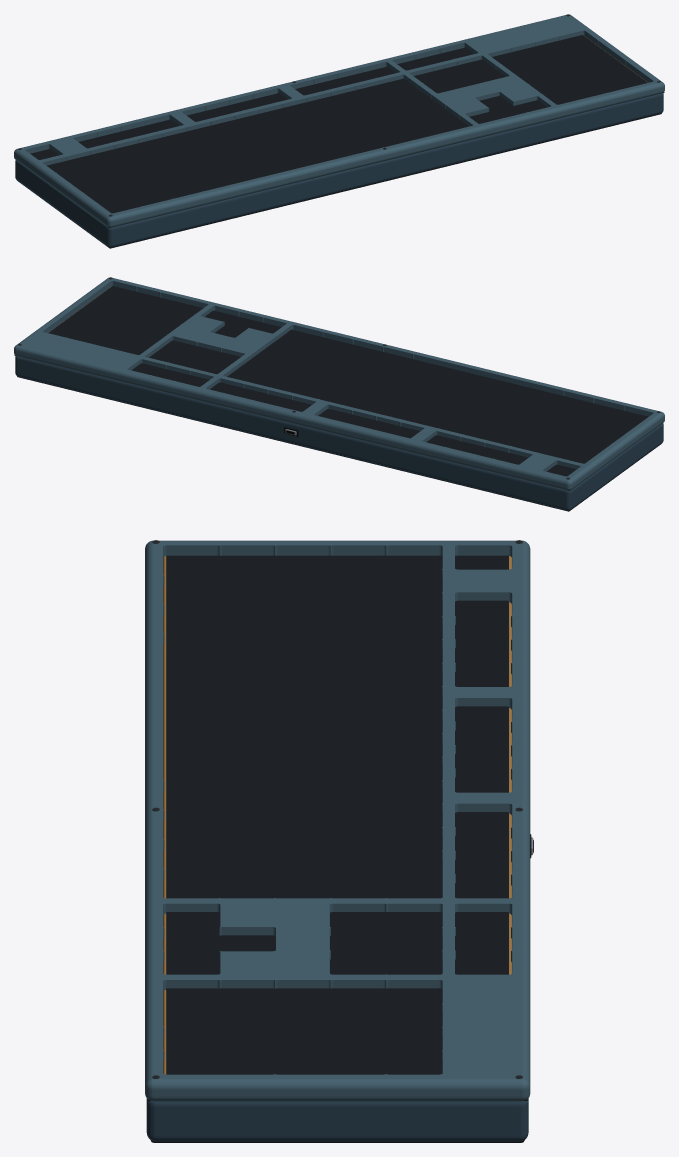
The model's file is ansi-104.glb.
The picture shows the model from 3 angles, top to bottom: view 1: azimuth 30°, elevation 25°; view 2: azimuth 150°, elevation 25°; view 3: azimuth 270°, elevation 25°; orthographic projection. The views are drawn at different scales.
Visible parts, largest first — view 1: KeybedShadow, TopFrame, CaseBody, BottomEdge; view 2: KeybedShadow, TopFrame, CaseBody, BottomEdge; view 3: KeybedShadow, TopFrame, CaseBody, Plate.
Part boxes in pixels (left/top/right/bottom): KeybedShadow: left=30, top=35, right=647, bottom=213; TopFrame: left=14, top=14, right=664, bottom=227; CaseBody: left=15, top=93, right=663, bottom=247; BottomEdge: left=18, top=113, right=661, bottom=248; KeybedShadow: left=48, top=286, right=648, bottom=476; TopFrame: left=14, top=277, right=664, bottom=490; CaseBody: left=15, top=356, right=663, bottom=510; BottomEdge: left=17, top=376, right=660, bottom=511; KeybedShadow: left=166, top=555, right=508, bottom=1074; TopFrame: left=145, top=540, right=530, bottom=1101; CaseBody: left=146, top=564, right=528, bottom=1141; Plate: left=163, top=556, right=511, bottom=1074.
Bounding box in the file's own units: 0.4416 × 0.0263 × 0.1333.
